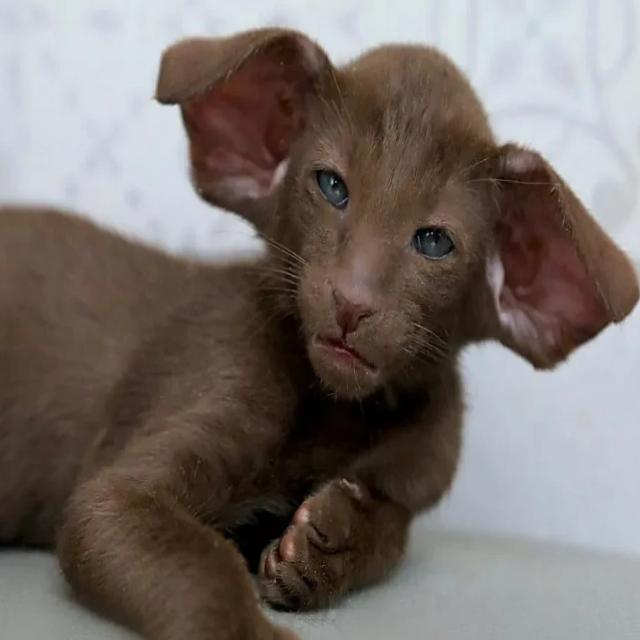Oriental: (0, 19, 640, 640)
